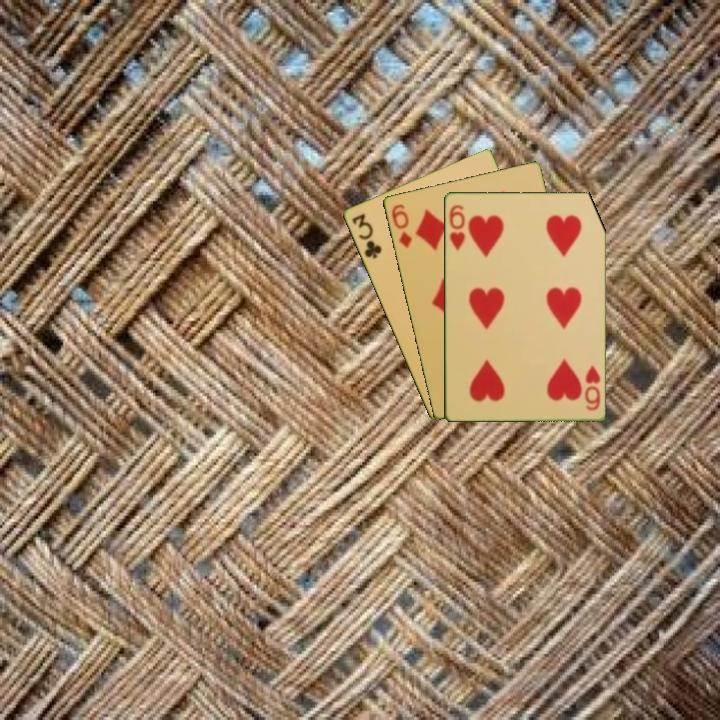3c: (348, 210, 385, 261)
6d: (388, 200, 414, 251)
6h: (581, 362, 603, 413), (446, 201, 467, 253)
